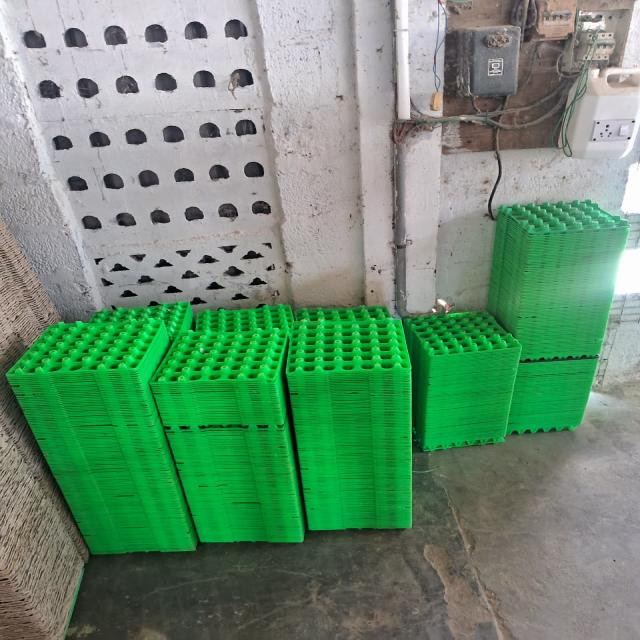egg_tray: (7, 0, 284, 308), (45, 109, 277, 246), (7, 0, 262, 121), (93, 236, 285, 311)
